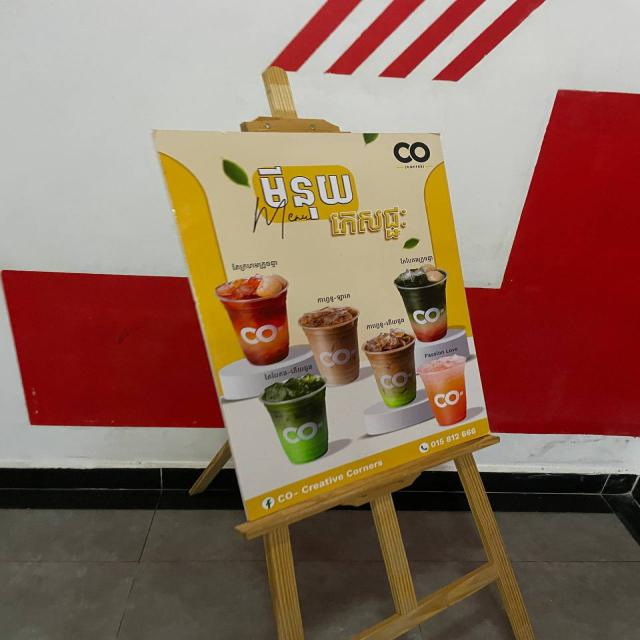Yolov11kh: (247, 164, 359, 221), (327, 202, 413, 243)
